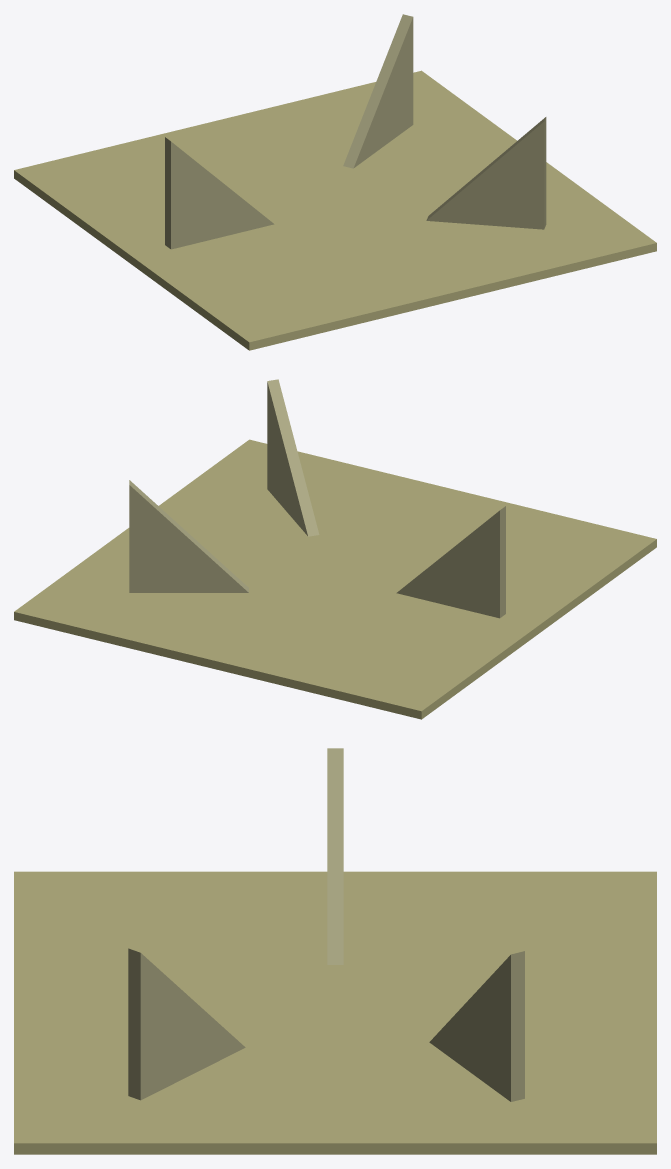
The model's file is Sphere_Structure.fbx.
3 renders of one model, top to bottom at view 1: azimuth 30°, elevation 25°; view 2: azimuth 150°, elevation 25°; view 3: azimuth 270°, elevation 25°, orthographic. The views are drawn at different scales.
Visible parts, largest first — view 1: pCube1, pCube3, pCube2, pCube4; view 2: pCube1, pCube4, pCube2, pCube3; view 3: pCube1, pCube3, pCube4, pCube2.
Part boxes in pixels (<box>): pCube1: <box>14,70,656,350</box>; pCube3: <box>426,117,546,229</box>; pCube2: <box>165,137,274,249</box>; pCube4: <box>343,14,413,168</box>; pCube1: <box>14,439,656,719</box>; pCube4: <box>129,480,248,592</box>; pCube2: <box>396,506,505,618</box>; pCube3: <box>267,379,319,536</box>; pCube1: <box>14,871,656,1154</box>; pCube3: <box>128,948,245,1100</box>; pCube4: <box>429,951,524,1101</box>; pCube2: <box>327,748,343,964</box>.
Bounding box in the file's own units: 3.89 × 1.06 × 3.89.
